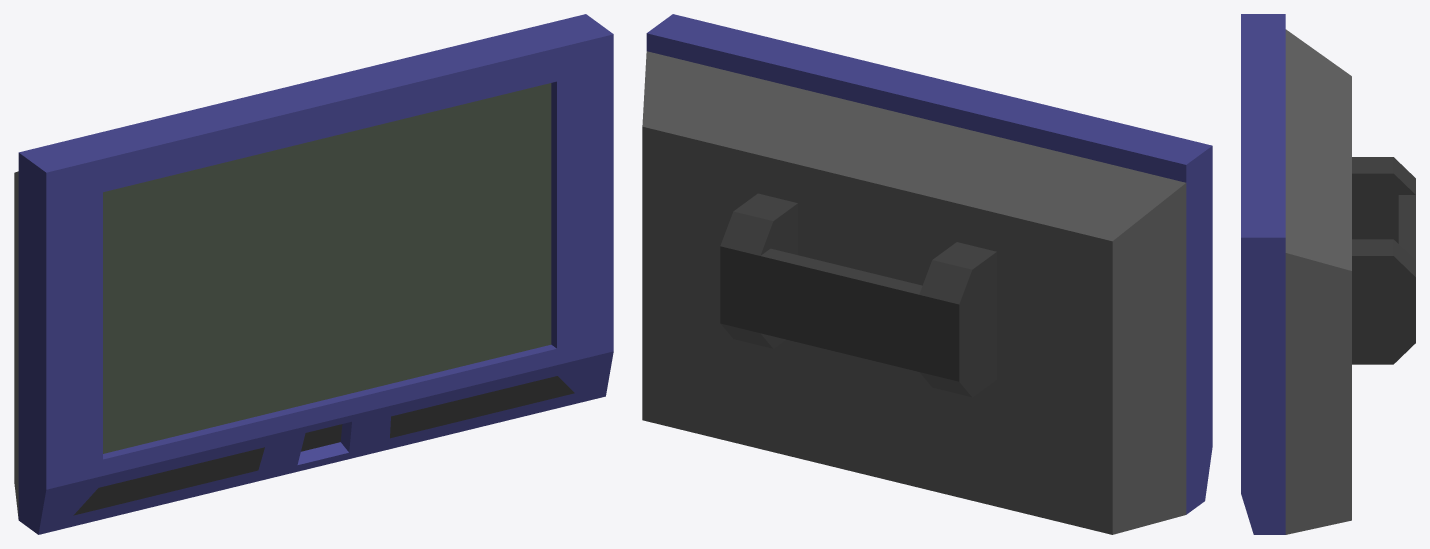
File: TelevisionSet18.fbx
3 renders of one model, left to right at view 1: azimuth 30°, elevation 25°; view 2: azimuth 150°, elevation 25°; view 3: azimuth 270°, elevation 25°, orthographic. The views are drawn at different scales.
Parts seen in each view (by area): view 1: Cube.001; view 2: Cube.001; view 3: Cube.001.
Boxes of the visible parts, box(x1,y1,x2,y2) form: Cube.001: box(14, 14, 613, 534); Cube.001: box(642, 14, 1212, 534); Cube.001: box(1241, 14, 1415, 534).
Bounding box in the file's own units: 1.6 × 0.9917 × 0.5288.
